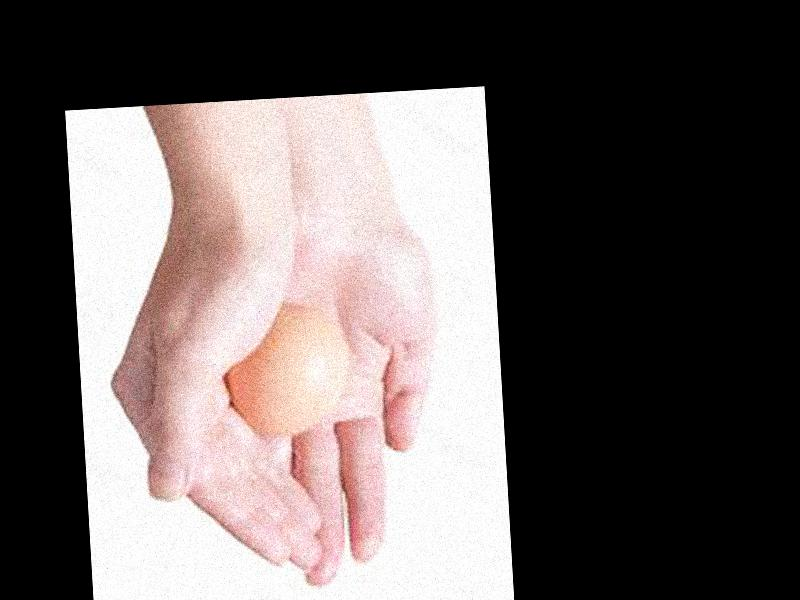Eggs: (226, 309, 347, 437)
